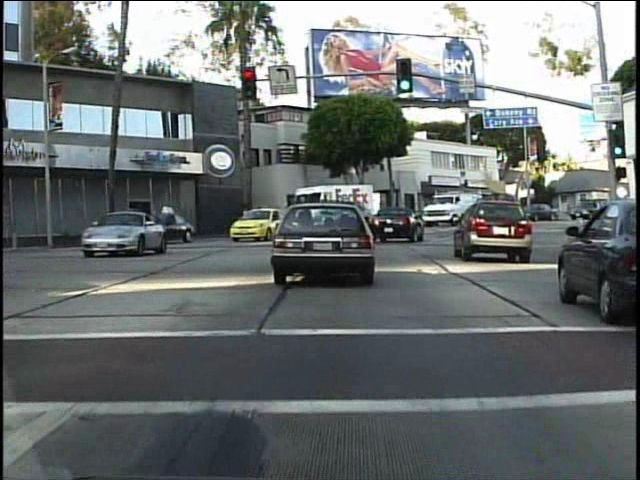person: (250, 202, 266, 233)
